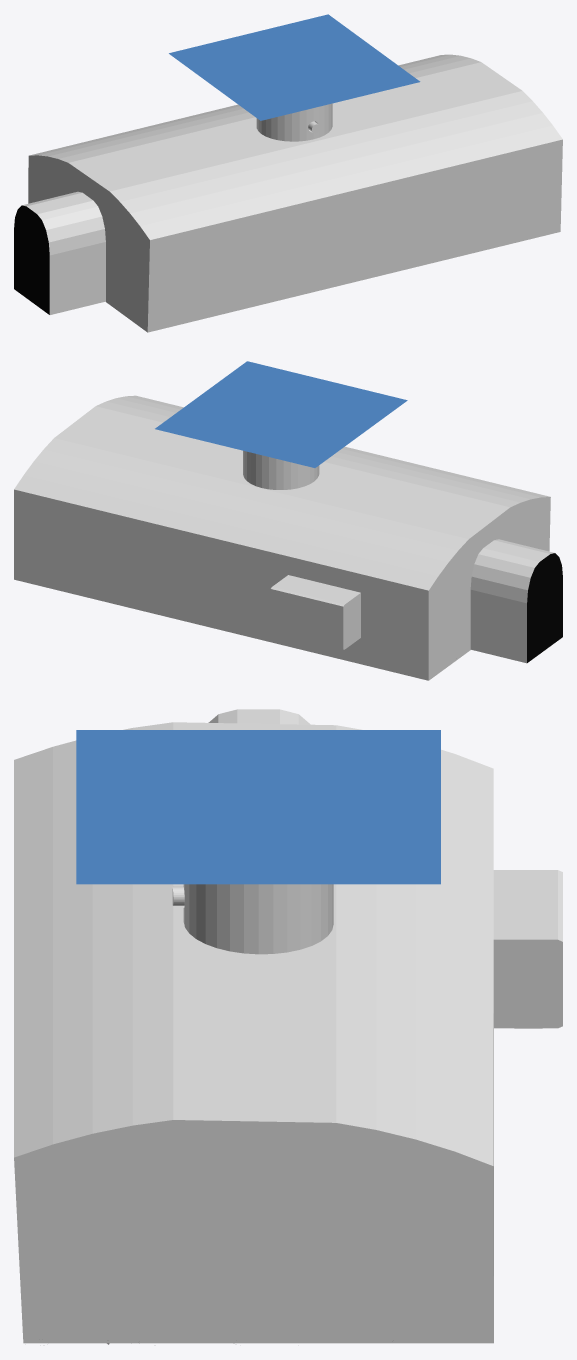
The model's file is RUM.glb.
3 renders of one model, top to bottom at view 1: azimuth 30°, elevation 25°; view 2: azimuth 150°, elevation 25°; view 3: azimuth 270°, elevation 25°, orthographic. The views are drawn at different scales.
Parts seen in each view (by area): view 1: Object.001, R-DOOR, FRONT; view 2: Object.001, L-DOOR, FRONT; view 3: Object.001, BACK, L-DOOR, FRONT.
Part boxes in pixels (x1,y1,x2,y2): Object.001: [29, 14, 562, 239]; R-DOOR: [147, 139, 562, 332]; FRONT: [14, 155, 149, 332]; Object.001: [14, 361, 550, 590]; L-DOOR: [14, 489, 428, 680]; FRONT: [428, 497, 562, 680]; Object.001: [14, 722, 493, 1165]; BACK: [14, 1120, 493, 1343]; L-DOOR: [493, 870, 562, 1275]; FRONT: [208, 709, 310, 724].
Size of the model in its own units: 9.09 by 3.19 by 4.67.
